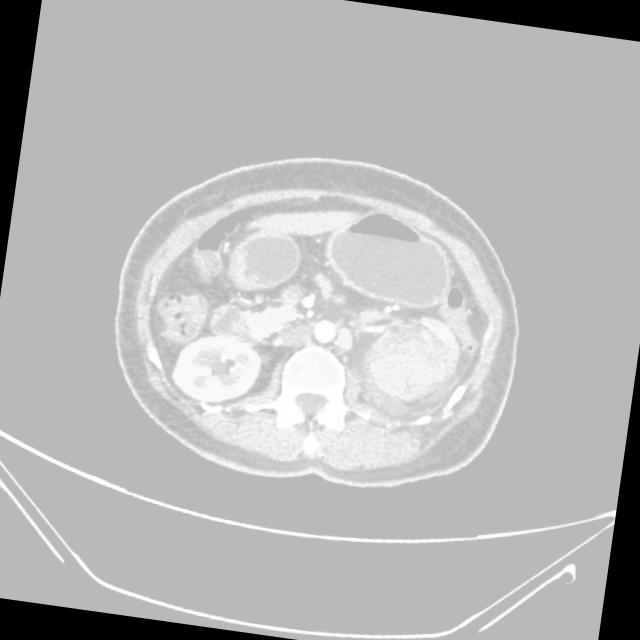TUMOR: (95, 148, 479, 383)
